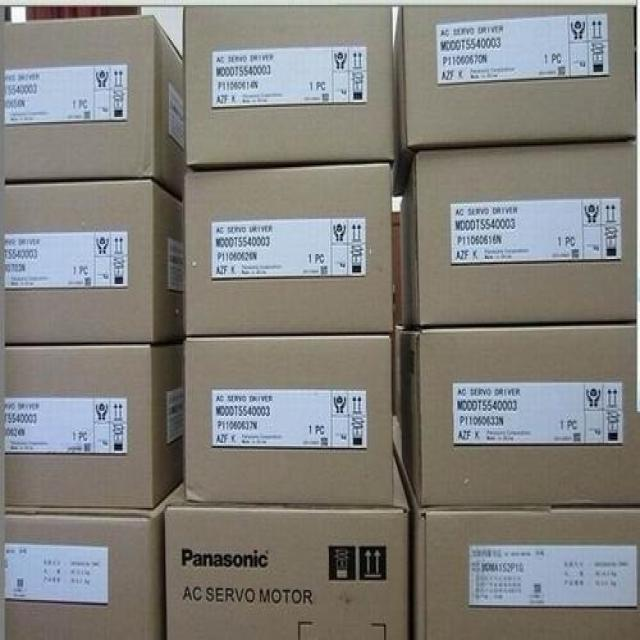box: (167, 455, 410, 638), (399, 324, 639, 509), (400, 142, 637, 328), (397, 462, 639, 638), (395, 5, 634, 159), (185, 166, 395, 337), (185, 338, 393, 505), (1, 17, 183, 203), (184, 8, 396, 166), (3, 338, 186, 511), (3, 179, 185, 346), (2, 483, 185, 637)
